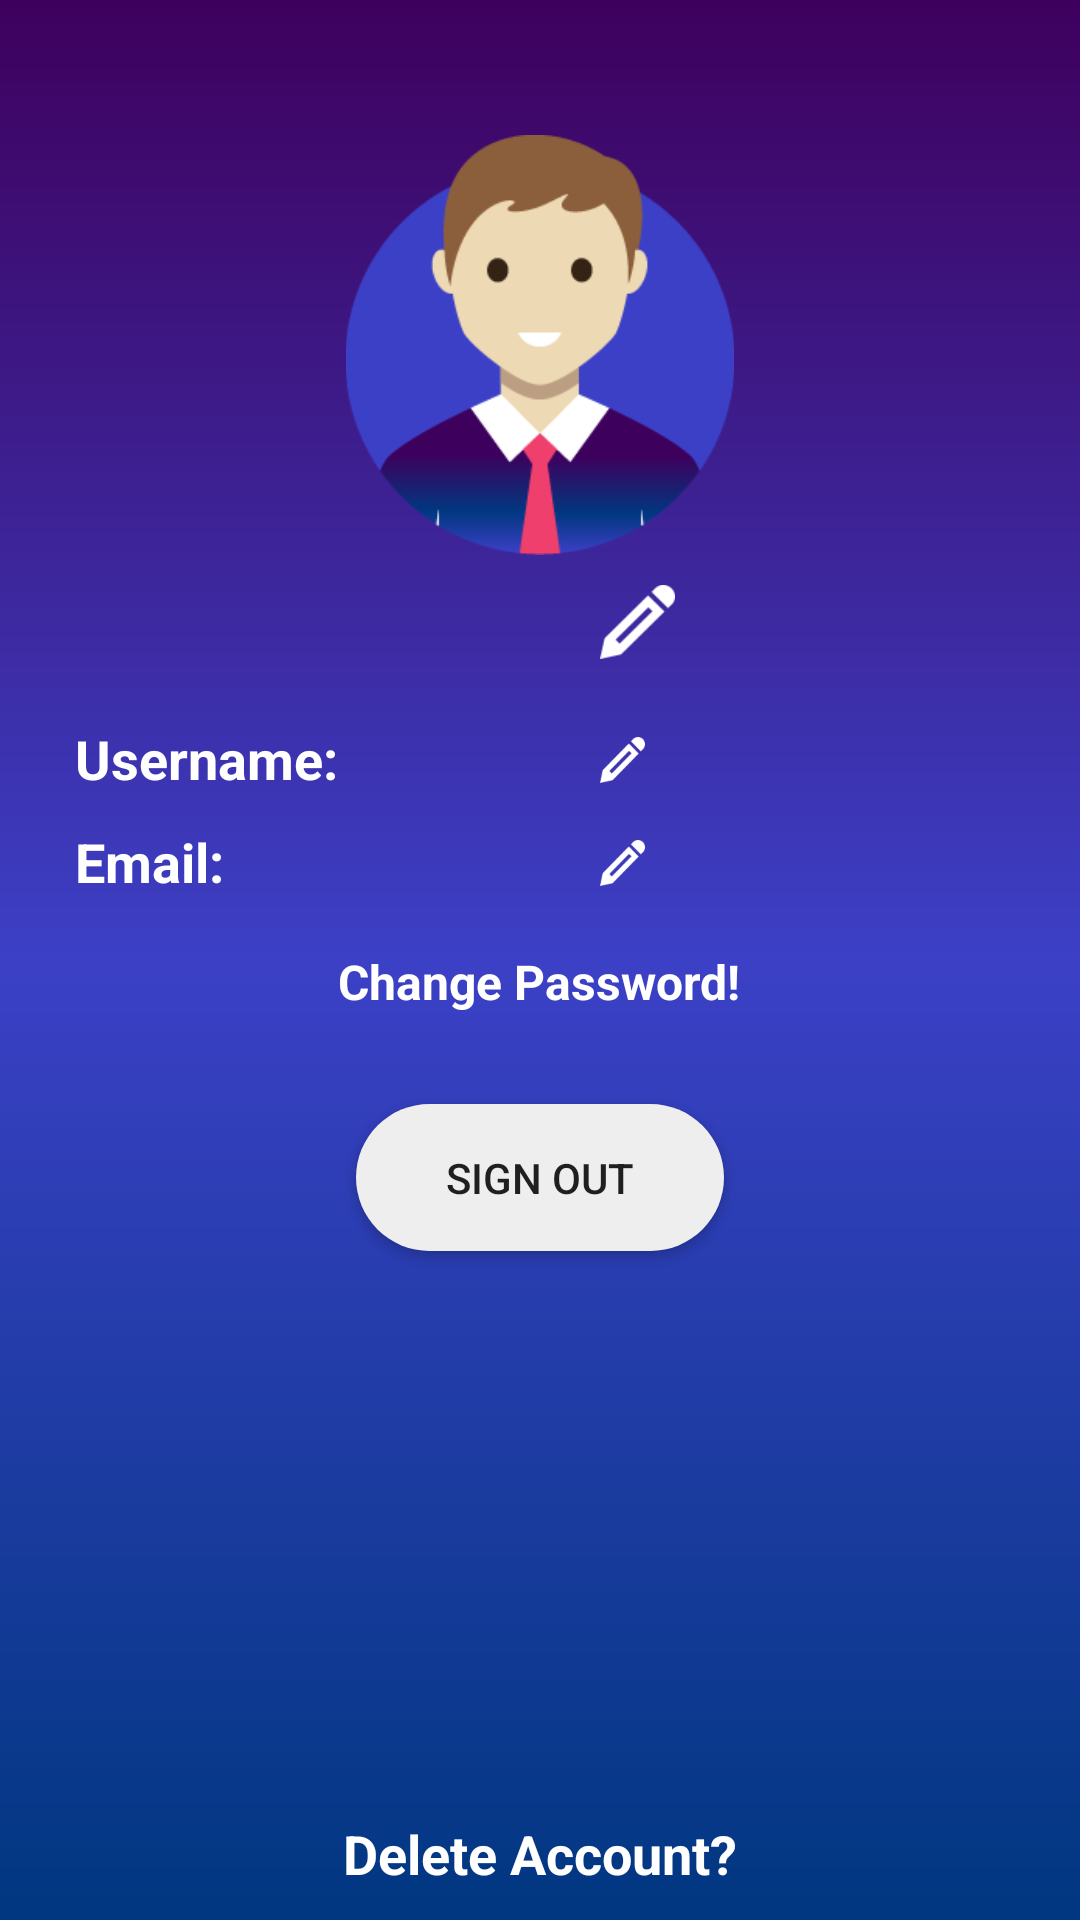

Icon bounding boxes for this 1080px x 1920px phone screenshot, format (left=x1, top=y1, right=x2, bottom=y2):
pencil: (left=600, top=585, right=675, bottom=659), (left=600, top=737, right=645, bottom=783), (left=600, top=840, right=645, bottom=886)
